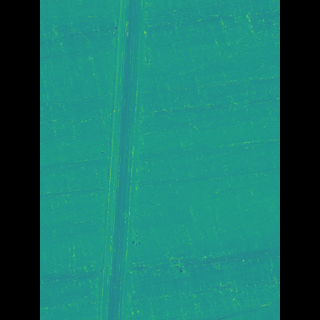Loch: (112, 0, 154, 320)
